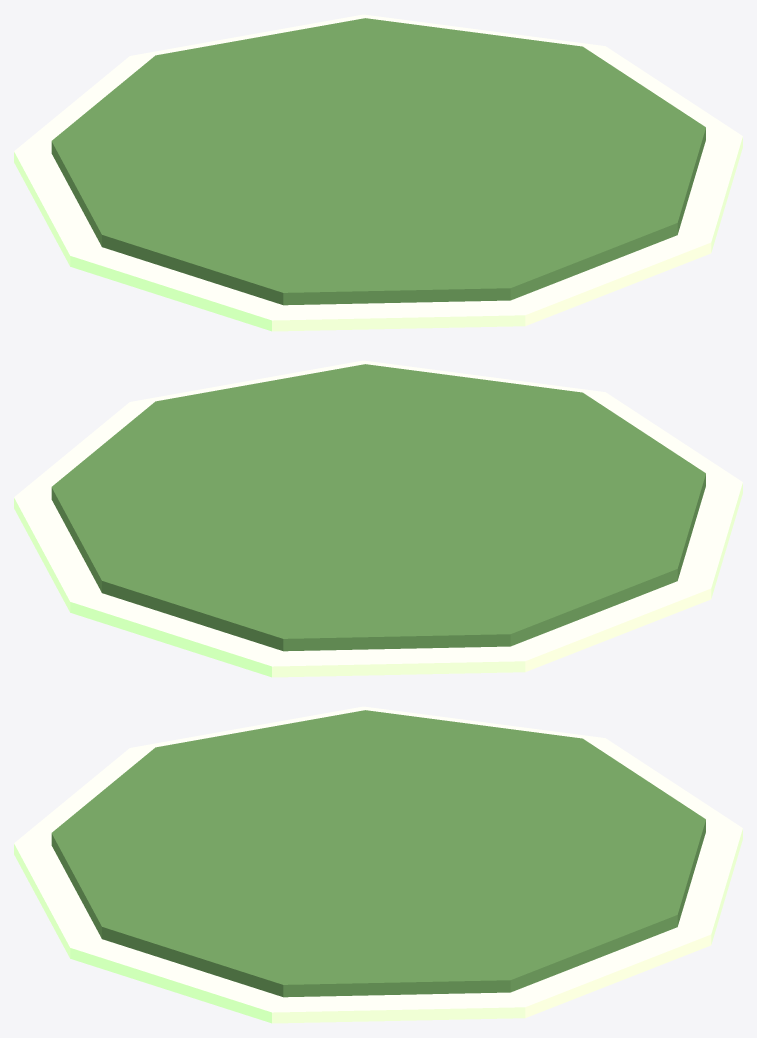
Rendered from lilypad_2.glb.
The picture shows the model from 3 angles, top to bottom: view 1: azimuth 30°, elevation 25°; view 2: azimuth 150°, elevation 25°; view 3: azimuth 270°, elevation 25°; orthographic projection.
Visible parts, largest first — view 1: lilypad_2; view 2: lilypad_2; view 3: lilypad_2.
Boxes of the visible parts, <box> form: lilypad_2: <box>14,14,742,331</box>; lilypad_2: <box>14,360,742,677</box>; lilypad_2: <box>14,706,742,1023</box>.
Size of the model in its own units: 0.4788 by 0.017 by 0.482.
